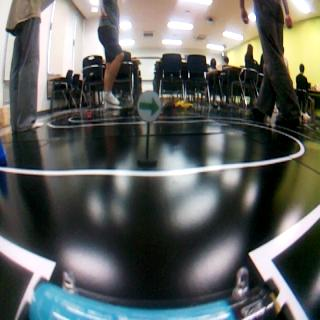right: (138, 92, 163, 124)
